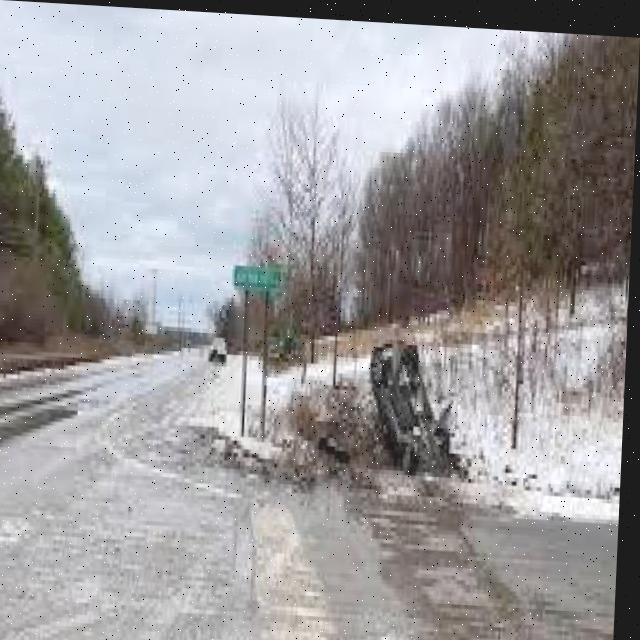single accident: (339, 329, 466, 497)
